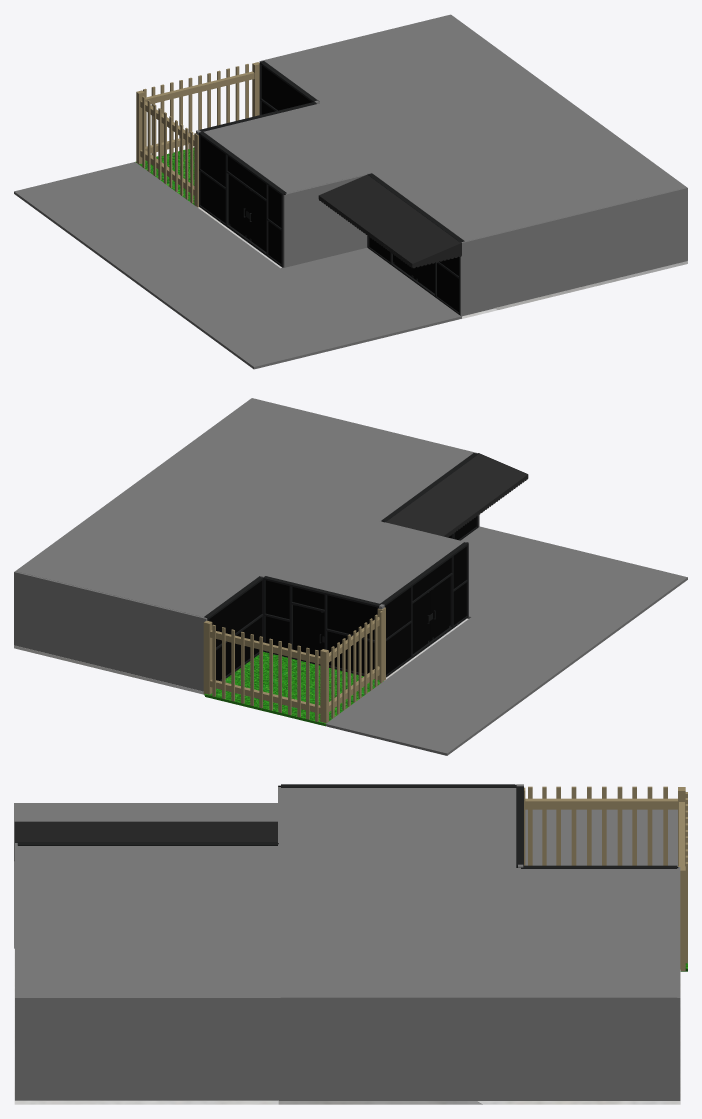
The model's file is museum.obj.
3 renders of one model, top to bottom at view 1: azimuth 30°, elevation 25°; view 2: azimuth 150°, elevation 25°; view 3: azimuth 270°, elevation 25°, orthographic. The views are drawn at different scales.
Parts seen in each view (by area): view 1: Flooroof, Outer_Floor, Outer_Wall, Roof, Front_Window, Box, Box129, Front_Window_Frame, Fox_Window_Small, Souvenir_Window, Box2, Souvenir_Frame (+6 smaller); view 2: Flooroof, Outer_Floor, Outer_Wall, Roof, Box, Fox_Window_Door, Grass, Front_Window, Box129, Fox_Window_Small, Fox_Window_Frame, Front_Window_Frame (+7 smaller); view 3: Flooroof, Outer_Wall, Outer_Floor, Roof, Box129, Floor, Box130, Fox_Window_Frame, Box, Souvenir_Frame, Front_Window_Frame.
Part boxes in pixels (box(x1,y1,x2,y2)): Flooroof: box(203, 15, 685, 241); Outer_Floor: box(14, 162, 461, 369); Outer_Wall: box(196, 14, 687, 316); Roof: box(318, 174, 461, 268); Front_Window: box(200, 136, 285, 263); Box: box(136, 62, 259, 164); Box129: box(142, 96, 198, 207); Front_Window_Frame: box(198, 131, 286, 267); Fox_Window_Small: box(261, 65, 311, 114); Souvenir_Window: box(369, 236, 458, 312); Box2: box(145, 71, 254, 153); Souvenir_Frame: box(367, 173, 464, 314); Flooroof: box(16, 398, 473, 617); Outer_Floor: box(325, 526, 687, 755); Outer_Wall: box(14, 398, 479, 691); Roof: box(386, 453, 528, 537); Box: box(203, 620, 328, 722); Fox_Window_Door: box(265, 580, 377, 673); Grass: box(204, 651, 383, 726); Front_Window: box(385, 542, 468, 674); Box129: box(331, 607, 385, 718); Fox_Window_Small: box(209, 581, 261, 680); Fox_Window_Frame: box(204, 576, 380, 681); Front_Window_Frame: box(380, 542, 468, 677); Flooroof: box(16, 787, 677, 997); Outer_Wall: box(15, 784, 680, 1100); Outer_Floor: box(14, 803, 677, 948); Roof: box(14, 821, 277, 860); Box129: box(524, 786, 667, 865); Floor: box(14, 945, 680, 1104); Box130: box(525, 798, 677, 809); Fox_Window_Frame: box(516, 786, 677, 868); Box: box(678, 787, 687, 970); Souvenir_Frame: box(17, 842, 277, 845); Front_Window_Frame: box(281, 784, 516, 867).
Bounding box in the file's own units: 335 × 56.74 × 320.
18 materials, 5 textured.
